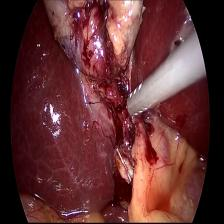Irrigator: (125, 75, 159, 122)
